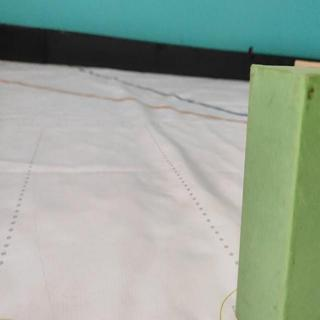greenbox: (235, 62, 320, 320)
